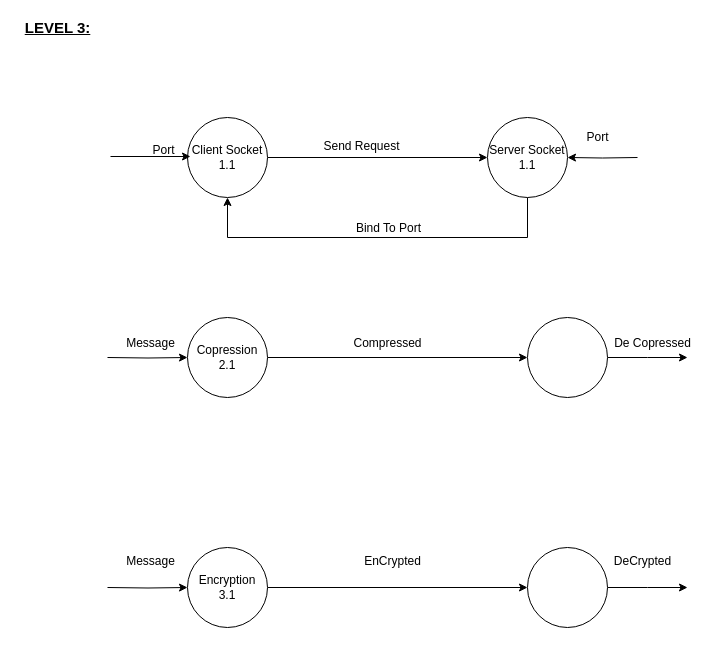
Image size: 714x645. Some labels were removed from this diagram. The centre of each missing label's shape, as x and y in pixels:
De Compression 2.2: point (567, 357)
DeCryption 3.2: point (567, 587)
